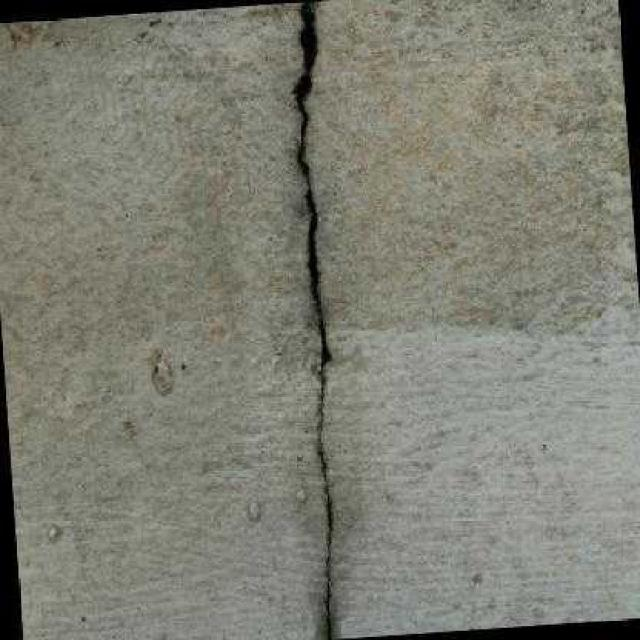D00: (294, 0, 333, 640)
